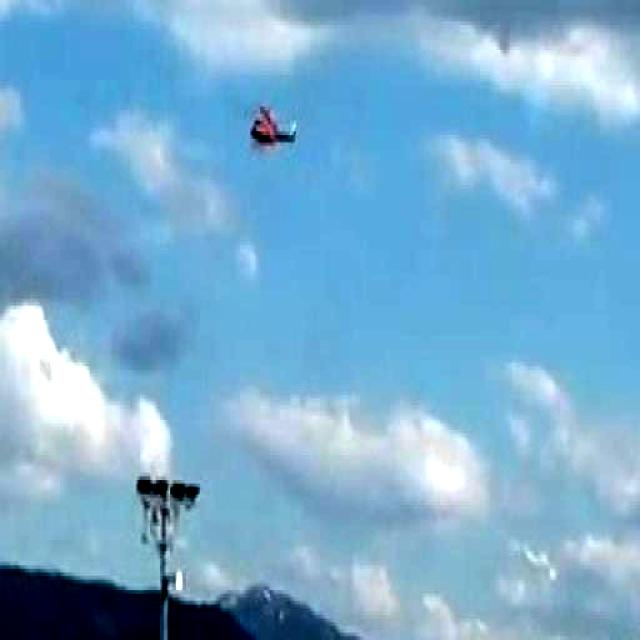drone: (246, 99, 301, 152)
